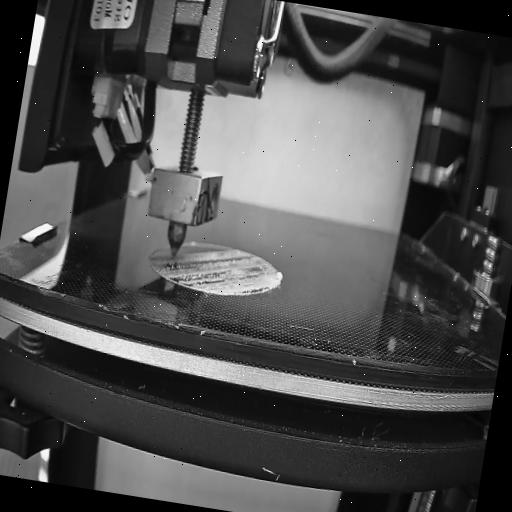under_extrusion: (147, 242, 242, 292), (238, 260, 274, 296)
